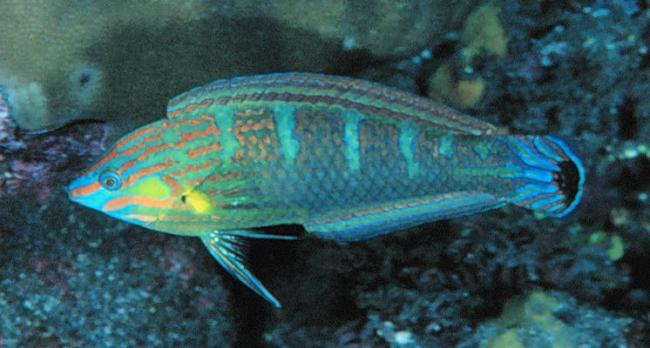fish: (67, 70, 586, 310)
